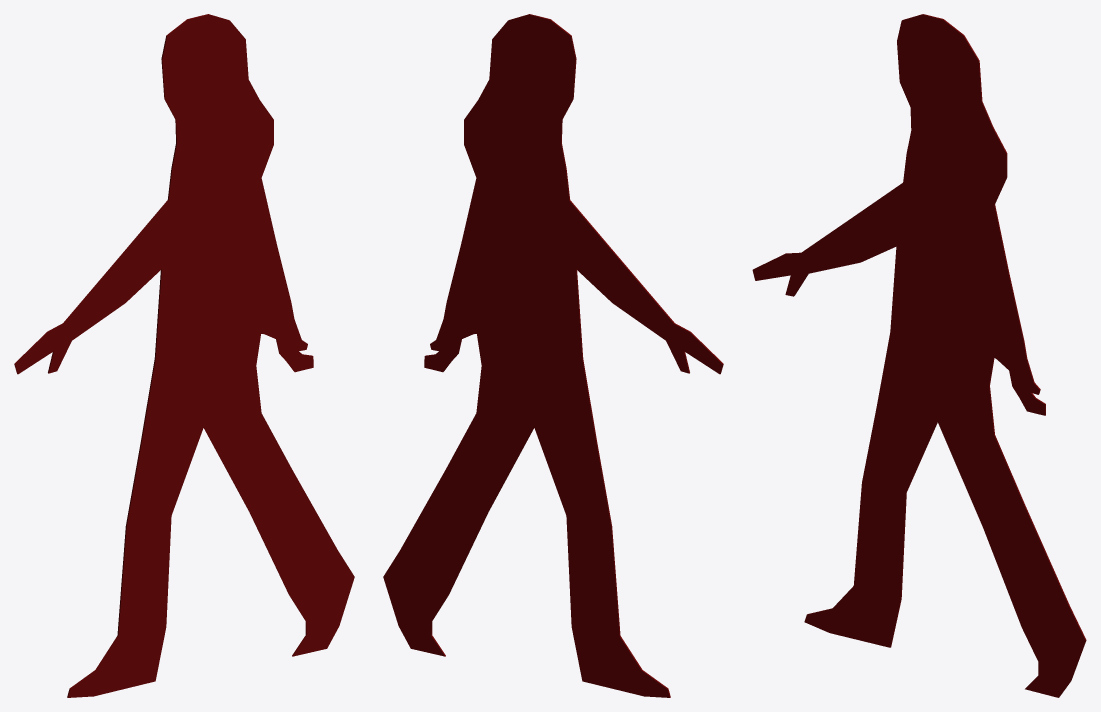
Rendered from Woman_moving.fbx.
3 views of the same model, side by side, from view 1: azimuth 30°, elevation 25°; view 2: azimuth 150°, elevation 25°; view 3: azimuth 330°, elevation 25° (orthographic).
Visible parts, largest first — view 1: woman_moveing; view 2: woman_moveing; view 3: woman_moveing.
Boxes of the visible parts, <box> form: woman_moveing: <box>14,14,354,697</box>; woman_moveing: <box>383,14,723,697</box>; woman_moveing: <box>752,14,1086,697</box>.
Size of the model in its own units: 24.13 by 44.99 by 0.113.
